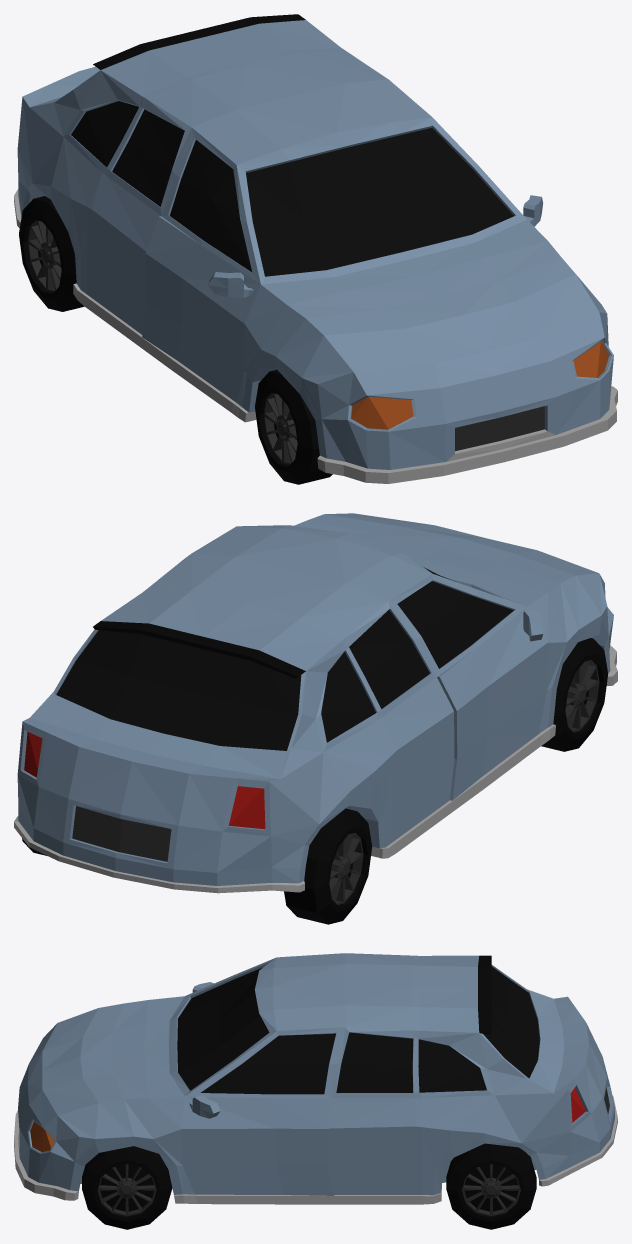
Rendered from NormalCar2.obj.
3 renders of one model, top to bottom at view 1: azimuth 30°, elevation 25°; view 2: azimuth 150°, elevation 25°; view 3: azimuth 270°, elevation 25°, orthographic. The views are drawn at different scales.
Parts seen in each view (by area): view 1: NormalCar2_Cube.002, NormalCar2_FrontRightWheel_Cylinder.016, NormalCar2_BackWheels_Cylinder.003; view 2: NormalCar2_Cube.002, NormalCar2_BackWheels_Cylinder.003, NormalCar2_FrontRightWheel_Cylinder.016; view 3: NormalCar2_Cube.002, NormalCar2_BackWheels_Cylinder.003, NormalCar2_FrontLeftWheel_Cylinder.015.
Part boxes in pixels (<box>): NormalCar2_Cube.002: <box>14,14,617,483</box>; NormalCar2_FrontRightWheel_Cylinder.016: <box>255,369,332,484</box>; NormalCar2_BackWheels_Cylinder.003: <box>19,196,84,311</box>; NormalCar2_Cube.002: <box>14,513,617,893</box>; NormalCar2_BackWheels_Cylinder.003: <box>22,808,372,924</box>; NormalCar2_FrontRightWheel_Cylinder.016: <box>541,638,607,751</box>; NormalCar2_Cube.002: <box>14,953,617,1204</box>; NormalCar2_BackWheels_Cylinder.003: <box>446,1143,536,1229</box>; NormalCar2_FrontLeftWheel_Cylinder.015: <box>82,1146,172,1229</box>.
Size of the model in its own units: 1.64 by 1.14 by 3.31.
